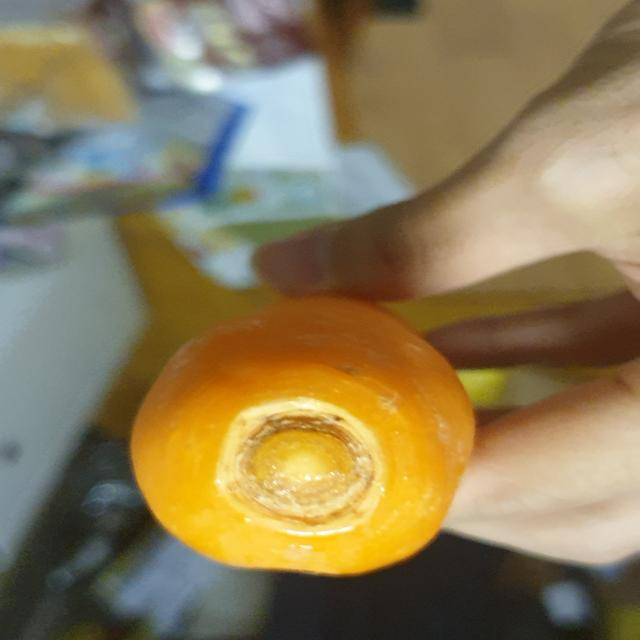Carrot: (124, 283, 495, 586)
